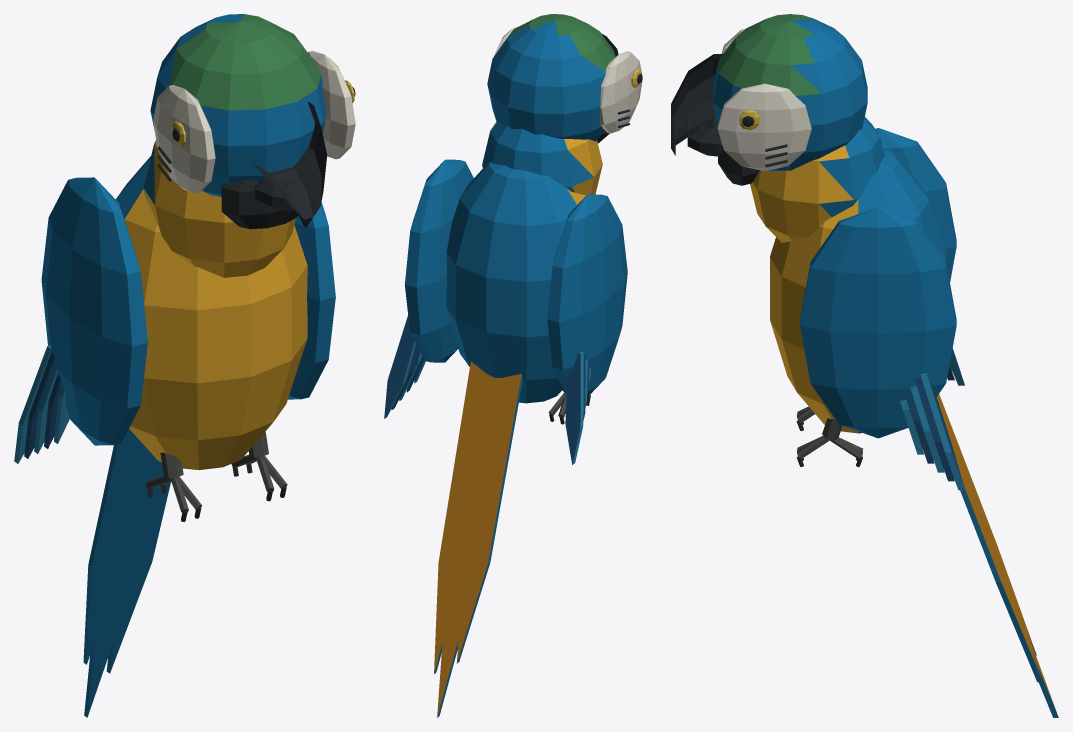
Rendered from macaw-study.glb.
3 views of the same model, side by side, from view 1: azimuth 30°, elevation 25°; view 2: azimuth 150°, elevation 25°; view 3: azimuth 270°, elevation 25° (orthographic). The views are drawn at different scales.
Visible parts, largest first — view 1: body, head, wing_left, tail, wing_right, foot_left, foot_right, jaw; view 2: body, head, tail, wing_left, wing_right; view 3: wing_right, head, body, tail, wing_left, foot_right, jaw.
Boxes of the visible parts, box(x1,y1,x2,y2) form: body: box(116, 140, 307, 469); head: box(150, 14, 355, 229); wing_left: box(14, 177, 147, 463); tail: box(83, 429, 170, 717); wing_right: box(288, 202, 335, 399); foot_left: box(145, 452, 201, 522); foot_right: box(231, 431, 287, 501); jaw: box(254, 178, 304, 211); body: box(446, 121, 602, 403); head: box(487, 14, 642, 143); tail: box(434, 361, 522, 717); wing_left: box(547, 194, 627, 464); wing_right: box(384, 159, 473, 418); wing_right: box(800, 207, 964, 490); head: box(671, 14, 867, 185); body: box(750, 117, 946, 433); tail: box(936, 394, 1058, 717); wing_left: box(875, 128, 964, 385); foot_right: box(796, 418, 862, 466); jaw: box(687, 123, 722, 156).
Bounding box in the file's own units: 0.4472 × 1.36 × 0.683.
